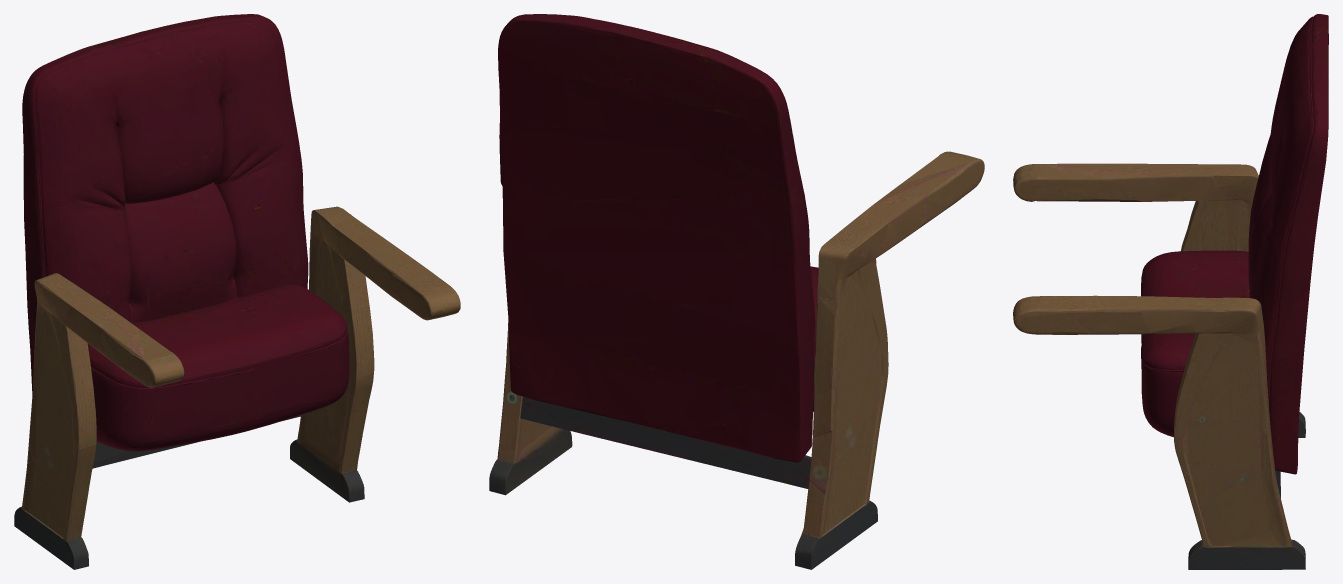
File: viewchair.glb
3 views of the same model, side by side, from view 1: azimuth 30°, elevation 25°; view 2: azimuth 150°, elevation 25°; view 3: azimuth 270°, elevation 25° (orthographic). The views are drawn at different scales.
Bounding box in the file's own units: 1.35 × 1.9 × 1.22.
1 material, 1 textured.
